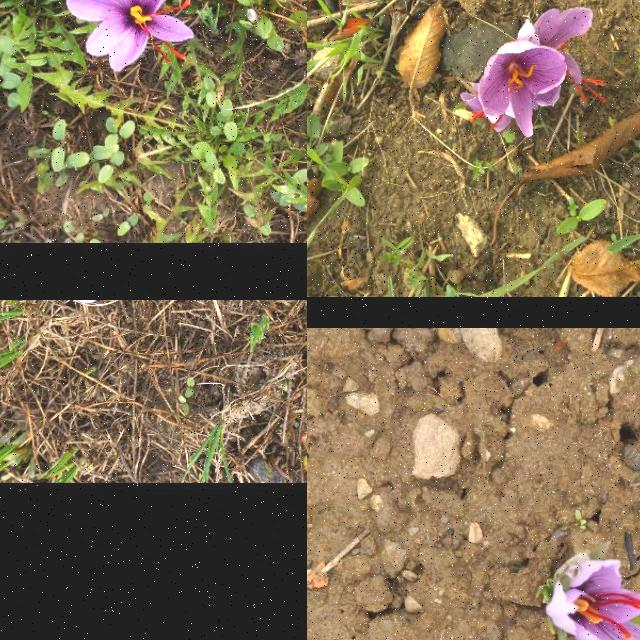flower: (65, 0, 194, 72), (550, 561, 640, 640)
overlap: (461, 5, 607, 137)
